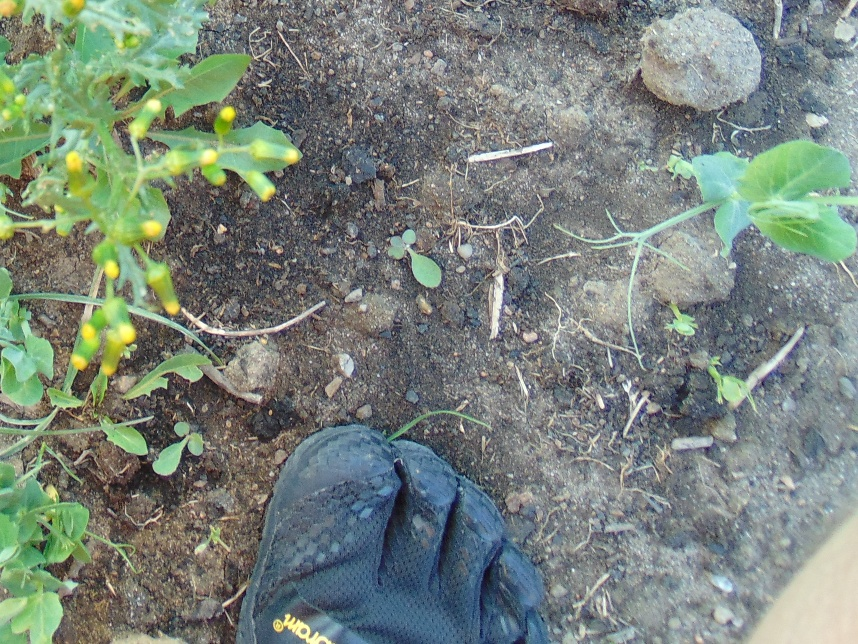crop: (620, 134, 858, 283), (1, 460, 91, 644), (1, 263, 57, 410), (710, 355, 756, 410), (664, 299, 700, 336)
weed: (1, 1, 300, 245), (74, 142, 185, 377), (50, 354, 195, 433), (387, 228, 444, 292), (151, 420, 206, 477), (97, 400, 152, 457)
